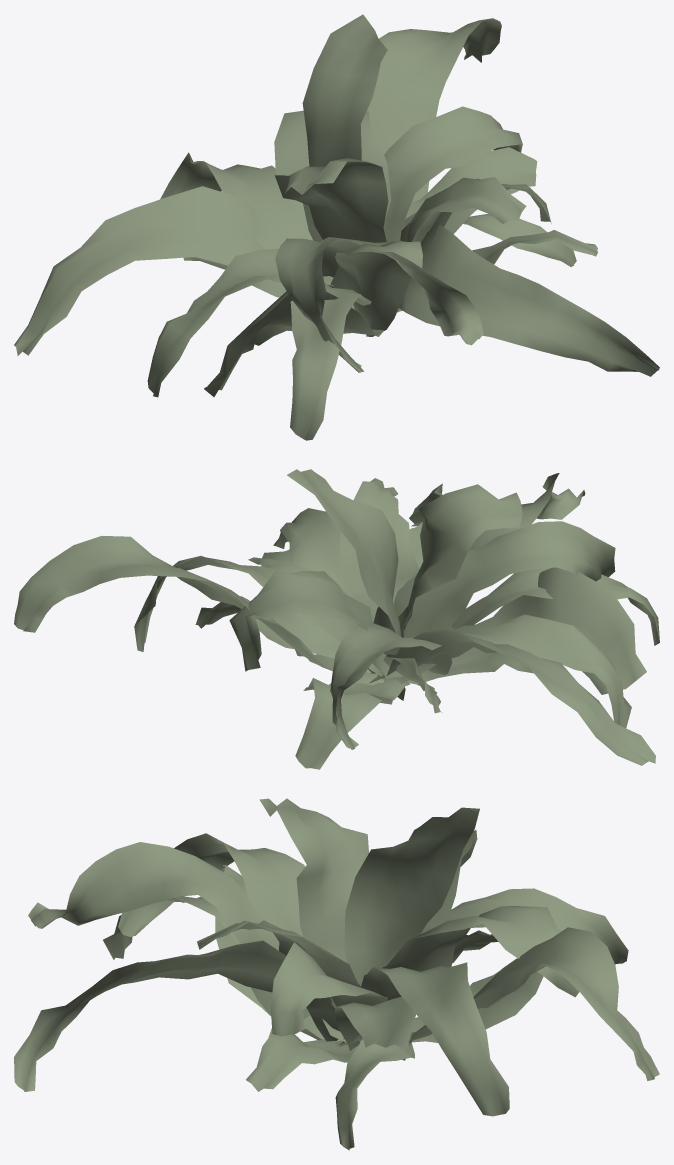
The model's file is fern_02_1.glb.
3 views of the same model, one above another, from view 1: azimuth 30°, elevation 25°; view 2: azimuth 150°, elevation 25°; view 3: azimuth 270°, elevation 25° (orthographic). The views are drawn at different scales.
Visible parts, largest first — view 1: fern_02_1; view 2: fern_02_1; view 3: fern_02_1.
Boxes of the visible parts, x1=… form: fern_02_1: x1=14, y1=14, x2=659, y2=440; fern_02_1: x1=14, y1=469, x2=659, y2=769; fern_02_1: x1=14, y1=798, x2=659, y2=1150.
Size of the model in its own units: 0.9897 by 0.4277 by 0.8937.
